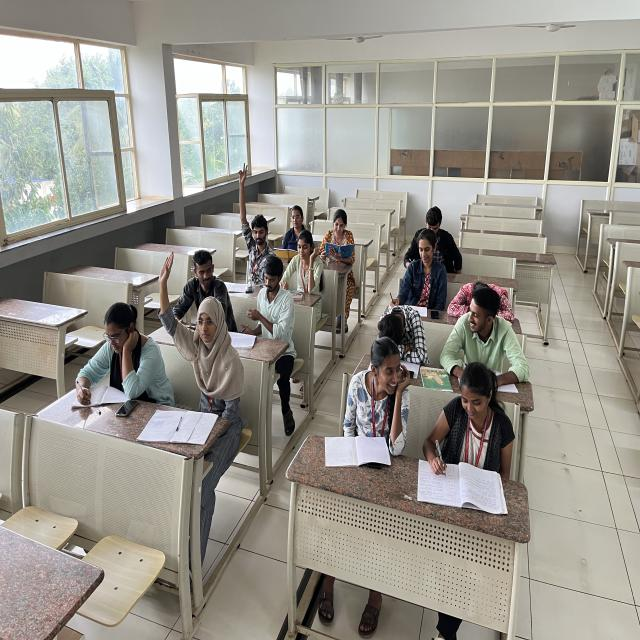Hand Rising: (156, 246, 240, 412), (233, 166, 279, 280)
Reading: (316, 210, 360, 268), (270, 207, 307, 262)
Sleeping: (364, 300, 432, 351), (447, 276, 521, 320)
Writing: (422, 362, 521, 487), (74, 294, 170, 405)
